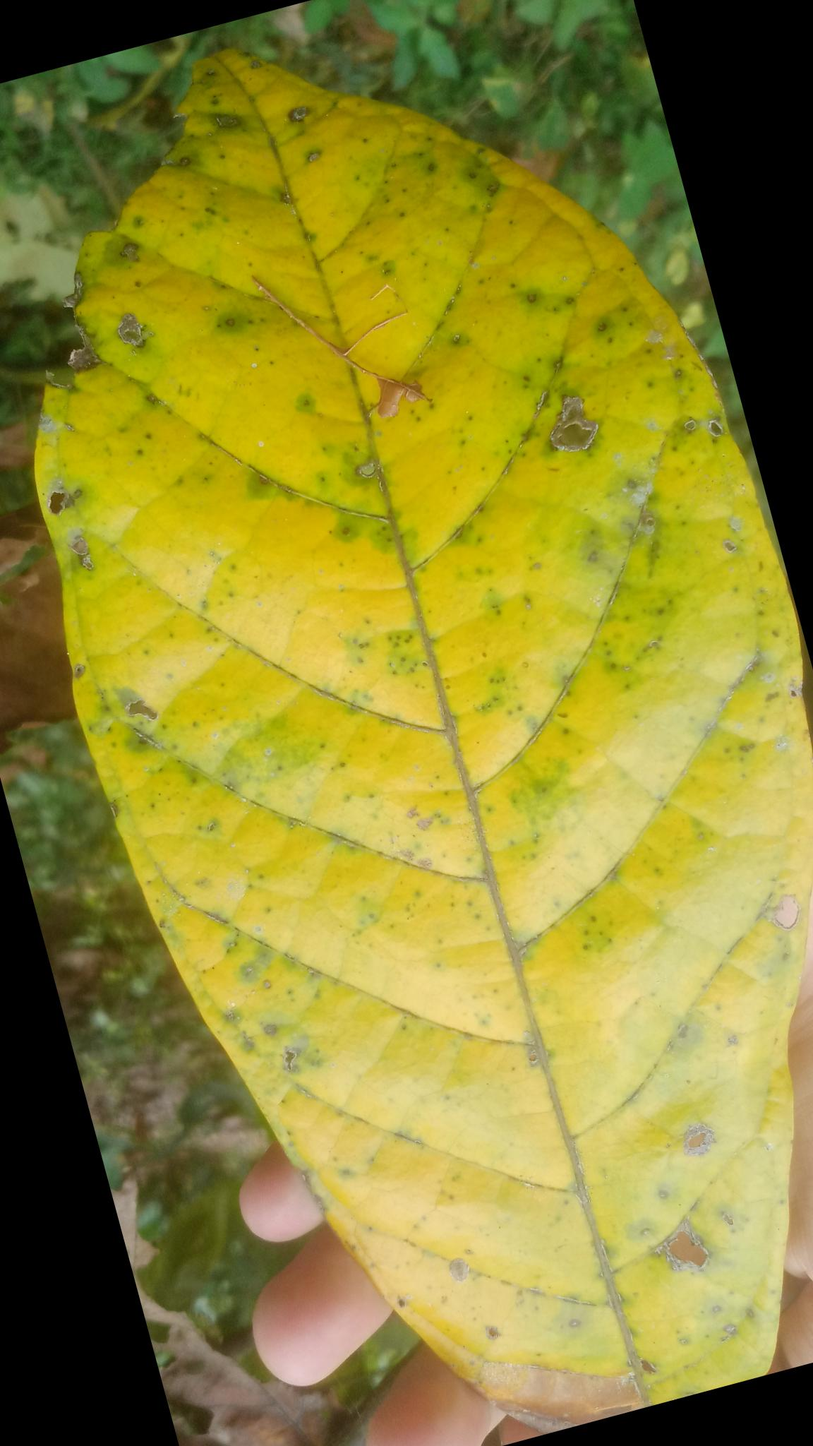Fosforo: (35, 32, 808, 1437)
